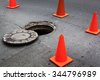open_manhole: (27, 21, 54, 33)
